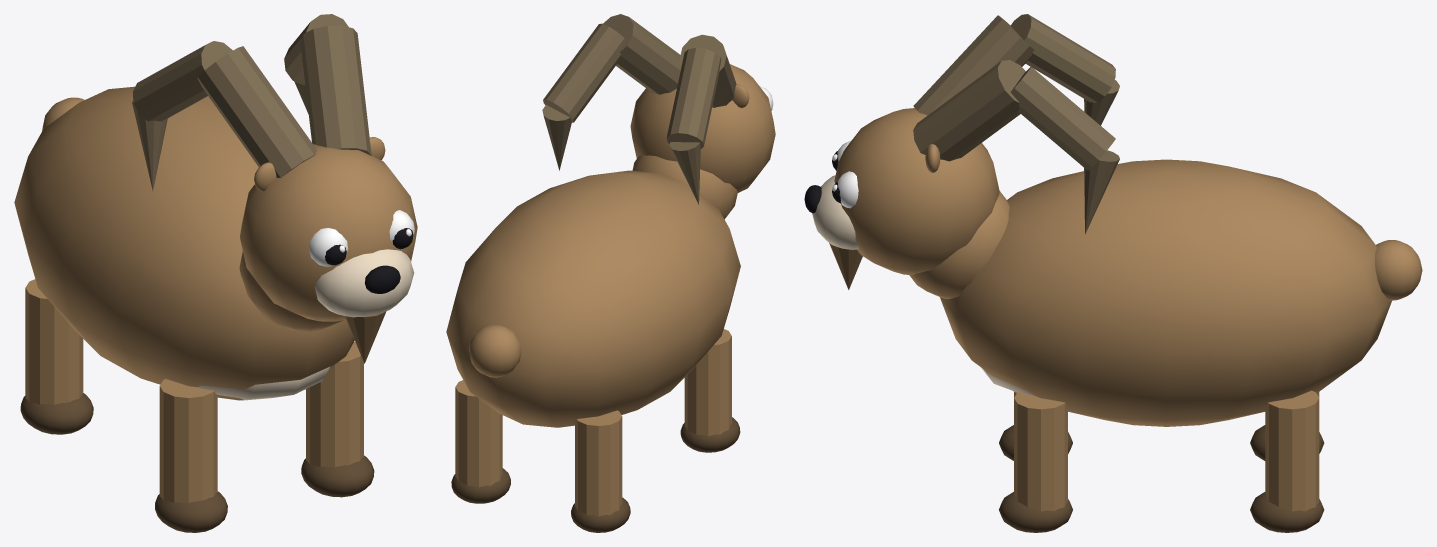
3 views of the same model, side by side, from view 1: azimuth 30°, elevation 25°; view 2: azimuth 150°, elevation 25°; view 3: azimuth 270°, elevation 25° (orthographic). The views are drawn at different scales.
Parts seen in each view (by area): view 1: Ibex; view 2: Ibex; view 3: Ibex.
Boxes of the visible parts, bbox=[...] form: Ibex: bbox=[14, 14, 417, 532]; Ibex: bbox=[446, 14, 775, 532]; Ibex: bbox=[804, 14, 1422, 532].
Size of the model in its own units: 1.7 by 2.96 by 3.65.
Materials: 1 (1 with a texture image).
